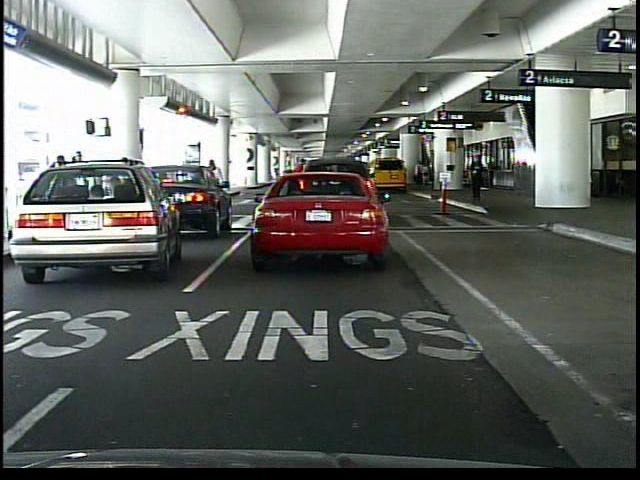person: (74, 148, 94, 224), (205, 157, 226, 213), (290, 154, 308, 209), (468, 153, 488, 201), (413, 155, 426, 191)
